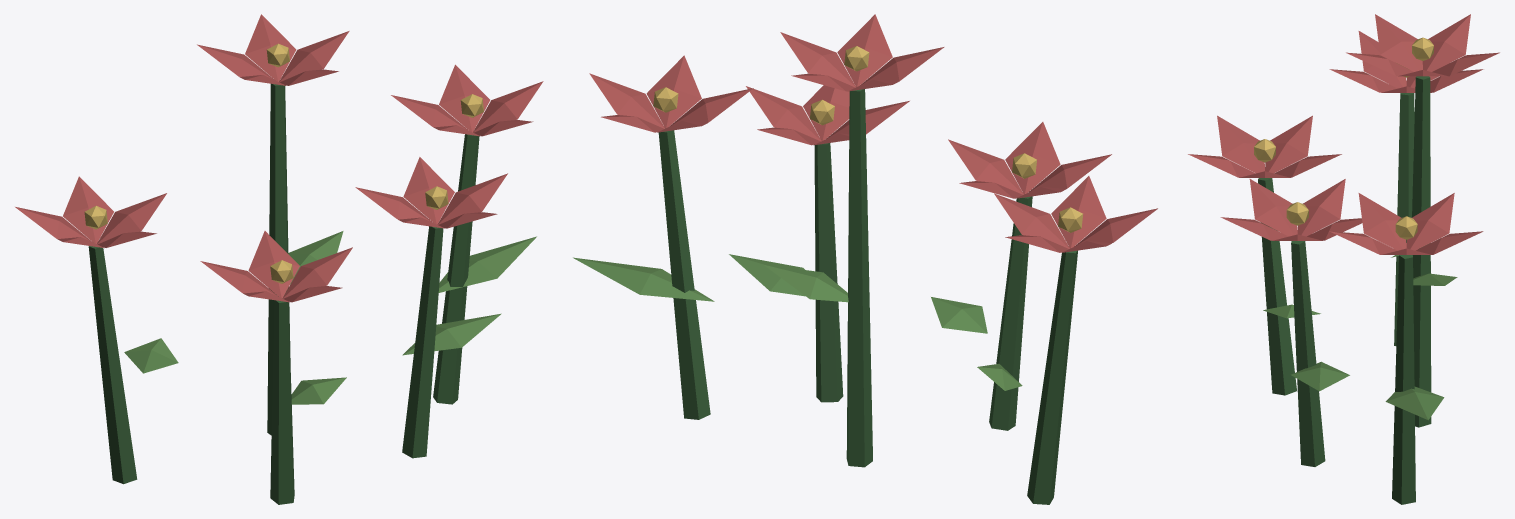
File: flower_red_cluster.glb
3 views of the same model, side by side, from view 1: azimuth 30°, elevation 25°; view 2: azimuth 150°, elevation 25°; view 3: azimuth 270°, elevation 25° (orthographic). The views are drawn at different scales.
Parts seen in each view (by area): view 1: flower_red_cluster; view 2: flower_red_cluster; view 3: flower_red_cluster.
Boxes of the visible parts, bbox=[...] form: flower_red_cluster: bbox=[15, 14, 543, 504]; flower_red_cluster: bbox=[573, 14, 1157, 504]; flower_red_cluster: bbox=[1188, 14, 1499, 504].
Size of the model in its own units: 1.07 by 0.7819 by 0.5753.
